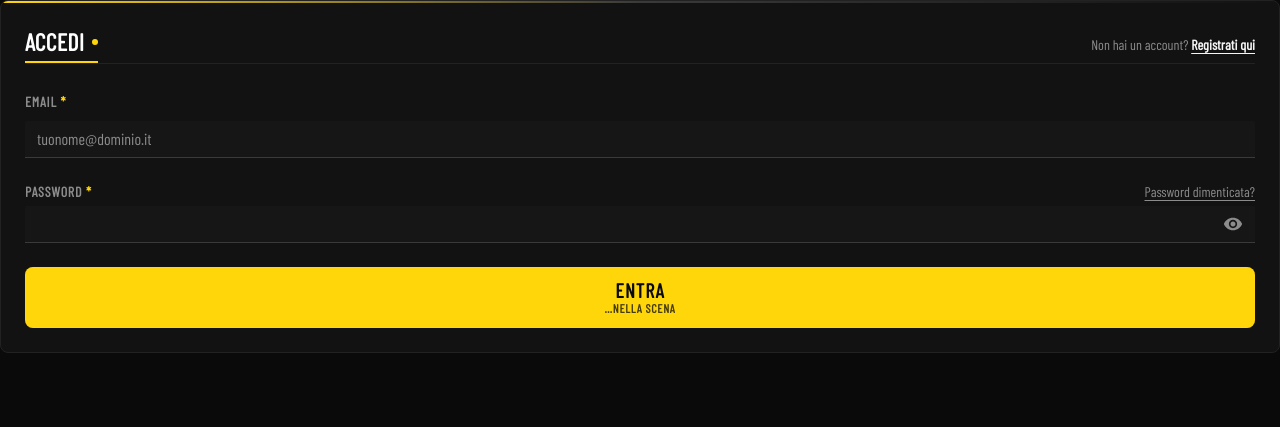
LoginPage › con i campi vuoti mostra i nostri messaggi sotto i campi e non chiama il server
Click the button "Entra …nella scena" at x=640, y=298, box x1=25 y1=267 x2=1255 y2=328
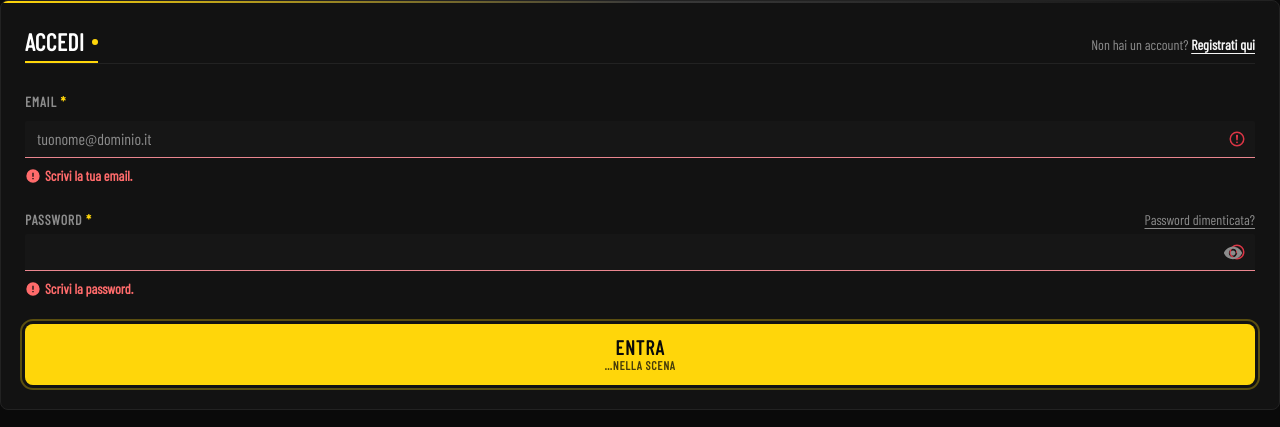
Result: the text "Scrivi la tua email." is shown at x1=45 y1=166 x2=132 y2=186
Result: the text "Scrivi la password." is shown at x1=45 y1=279 x2=134 y2=300
